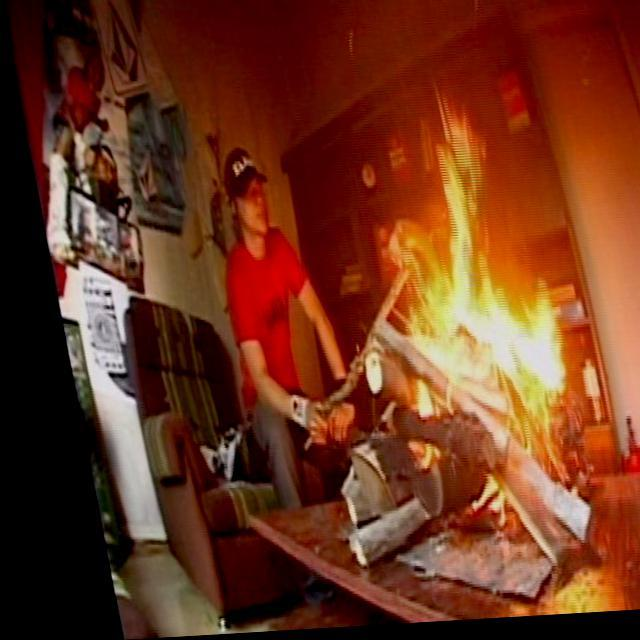Fire: (324, 155, 582, 481)
